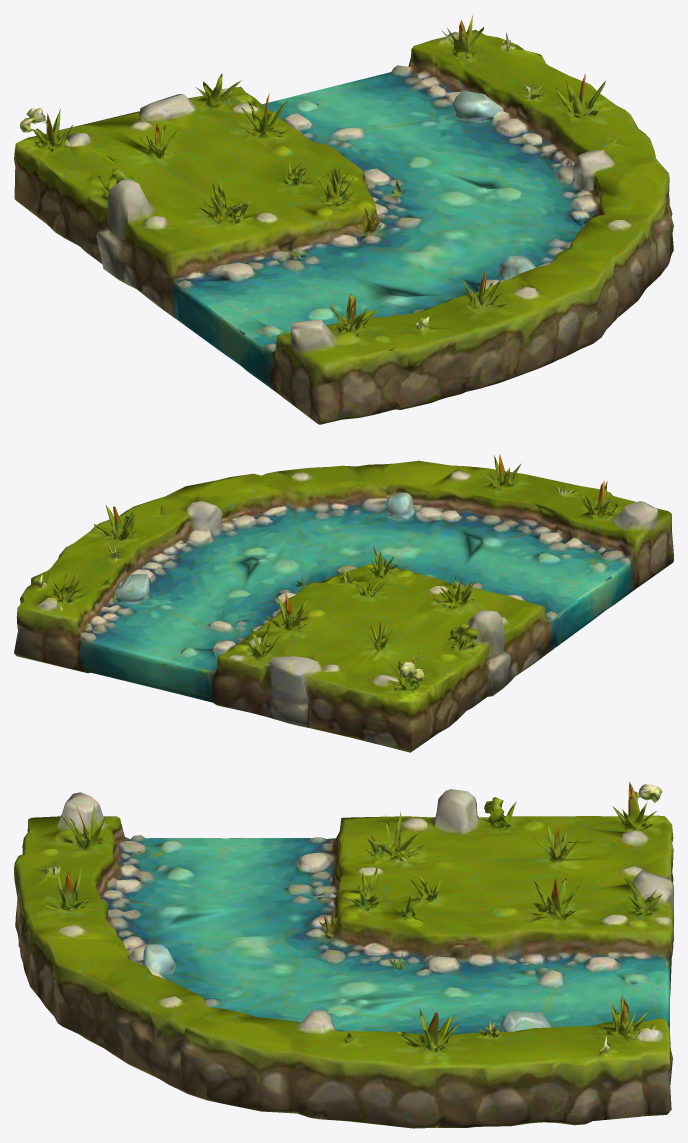
Rendered from stream-curve.glb.
The picture shows the model from 3 angles, top to bottom: view 1: azimuth 30°, elevation 25°; view 2: azimuth 150°, elevation 25°; view 3: azimuth 270°, elevation 25°; orthographic projection. The views are drawn at different scales.
Size of the model in its own units: 1.76 by 0.3408 by 1.91.
Materials: 1 (1 with a texture image).
